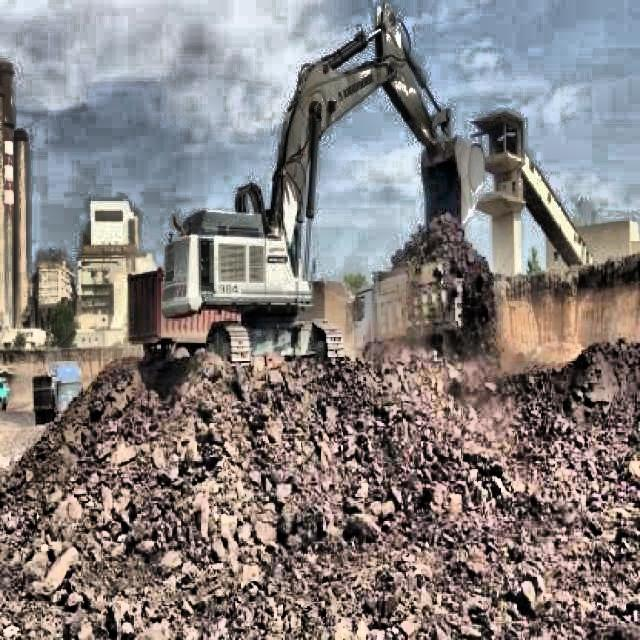dump_truck: (350, 264, 470, 356), (28, 360, 82, 426)
excavator: (160, 0, 488, 389)
